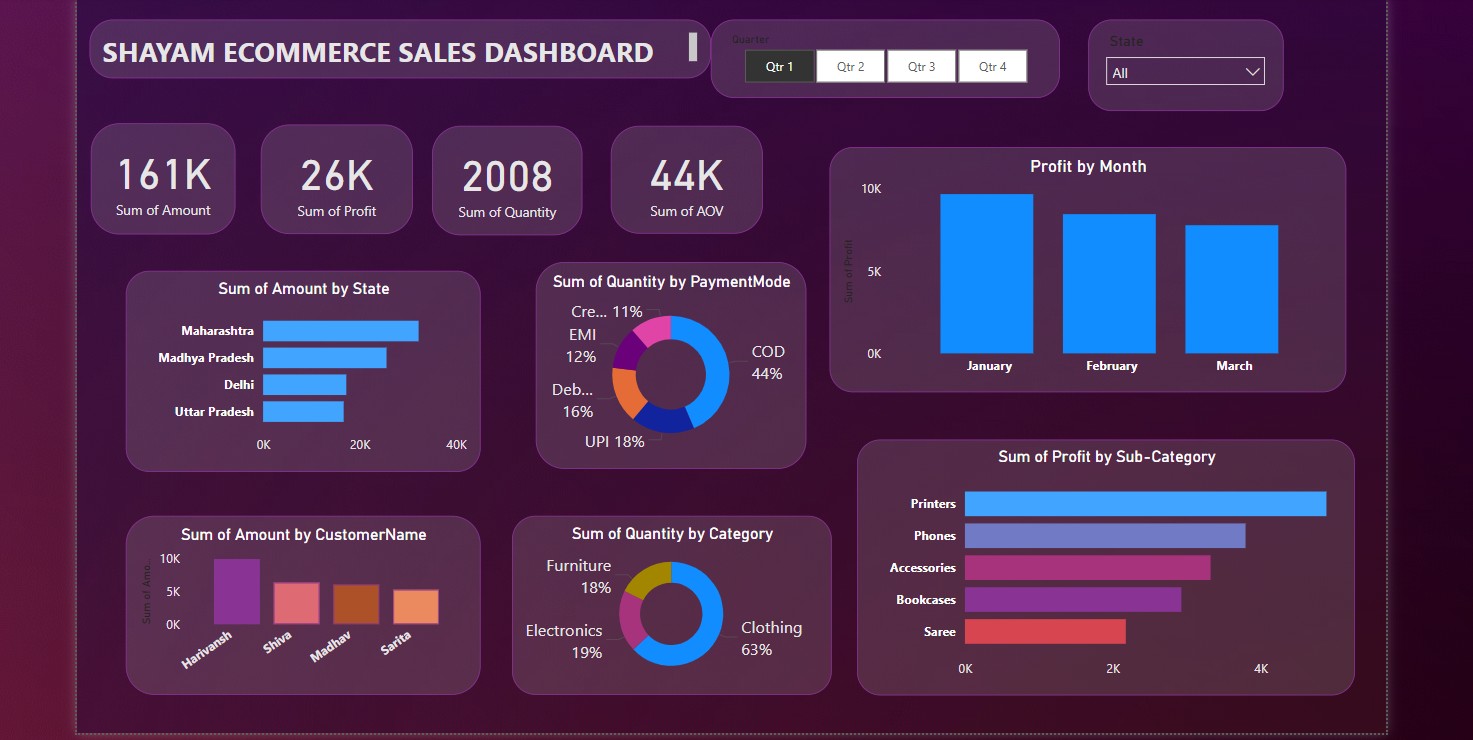

This screenshot's page, from the dashboard's own definition file:
{"tool":"powerbi","page":{"name":"Page 1","canvas":[1280,720],"ordinal":0},"visuals":[{"type":"columnChart","title":"Profit by Month","fields":{"Category":["Orders.Order Date.Variation.Date Hierarchy.Month"],"Y":["Sum(Details.Profit)"]},"box":[736.5,147.3,505.2,240.1],"z":0},{"type":"barChart","fields":{"Category":["Details.Sub-Category"],"Y":["Sum(Details.Profit)"]},"box":[763,433,487.5,250.4],"z":1000},{"type":"donutChart","fields":{"Category":["Details.Category"],"Y":["Sum(Details.Quantity)"]},"box":[425.2,507.7,312.4,175],"z":2000},{"type":"donutChart","fields":{"Y":["Sum(Details.Quantity)"],"Category":["Details.PaymentMode"]},"box":[448.4,258.9,264.7,202.5],"z":3000},{"type":"card","fields":{"Values":["Sum(Details.Amount)"]},"box":[13,122.9,141.7,108.5],"z":4000},{"type":"card","fields":{"Values":["Sum(Details.Profit)"]},"box":[179.3,124.4,149,107],"z":5000},{"type":"card","fields":{"Values":["Sum(Details.Quantity)"]},"box":[347.1,125.8,147.5,107],"z":6000},{"type":"card","fields":{"Values":["Sum(Details.AOV)"]},"box":[522.1,125.8,149,105.6],"z":7000},{"type":"barChart","fields":{"Category":["Orders.State"],"Y":["Sum(Details.Amount)"]},"box":[47.7,267.6,347.1,196.7],"z":8000},{"type":"columnChart","fields":{"Category":["Orders.CustomerName"],"Y":["Sum(Details.Amount)"]},"box":[48,508,347,175],"z":9000},{"type":"textbox","box":[12.2,22,607.7,57.5],"z":10000},{"type":"slicer","fields":{"Values":["Orders.Order Date.Variation.Date Hierarchy.Quarter"]},"box":[620.5,21.7,341.3,76.7],"z":11000},{"type":"slicer","fields":{"Values":["Orders.State"]},"box":[989.3,21.7,190.9,89.7],"z":12001}]}

Visuals, with their boxes on the page's 1280x720 design canvas (x1, y1, x2, y2). These are canvas units, not pixel positions in the 1473x740 screenshot, which may show the page scaled, cropped or inside an application window:
"Profit by Month" columnChart: detection(736, 147, 1242, 387)
barChart - Details.Sub-Category x Sum(Details.Profit): detection(763, 433, 1250, 683)
donutChart - Details.Category x Sum(Details.Quantity): detection(425, 508, 738, 683)
donutChart - Sum(Details.Quantity) x Details.PaymentMode: detection(448, 259, 713, 461)
card - Sum(Details.Amount): detection(13, 123, 155, 231)
card - Sum(Details.Profit): detection(179, 124, 328, 231)
card - Sum(Details.Quantity): detection(347, 126, 495, 233)
card - Sum(Details.AOV): detection(522, 126, 671, 231)
barChart - Orders.State x Sum(Details.Amount): detection(48, 268, 395, 464)
columnChart - Orders.CustomerName x Sum(Details.Amount): detection(48, 508, 395, 683)
textbox: detection(12, 22, 620, 80)
slicer - Orders.Order Date.Variation.Date Hierarchy.Quarter: detection(620, 22, 962, 98)
slicer - Orders.State: detection(989, 22, 1180, 111)
